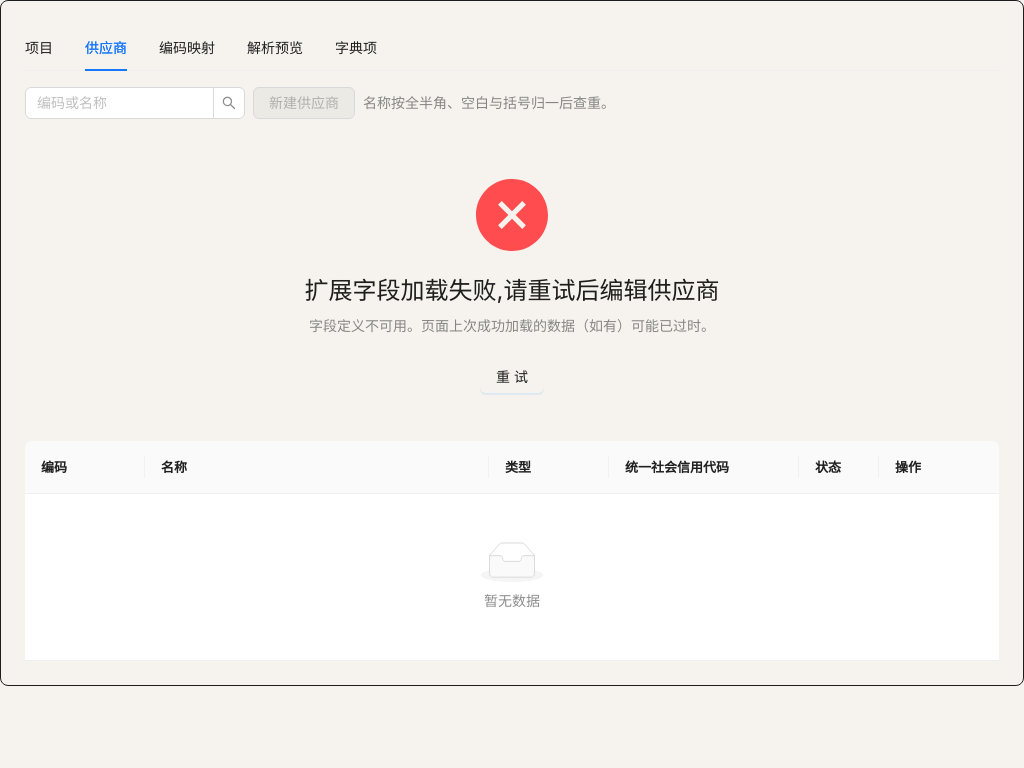
主数据扩展字段 AC-F07/F23 › 字段定义失败可重试,成功后才允许新建 suppliers
Expected: the text "扩展字段加载失败,请重试后编辑供应商" is shown, [304,276,719,305]
Expected: the button "新建供应商" is disabled, [253,87,355,119]
Click the button "重 试" at (512, 377), box [480,361,544,393]
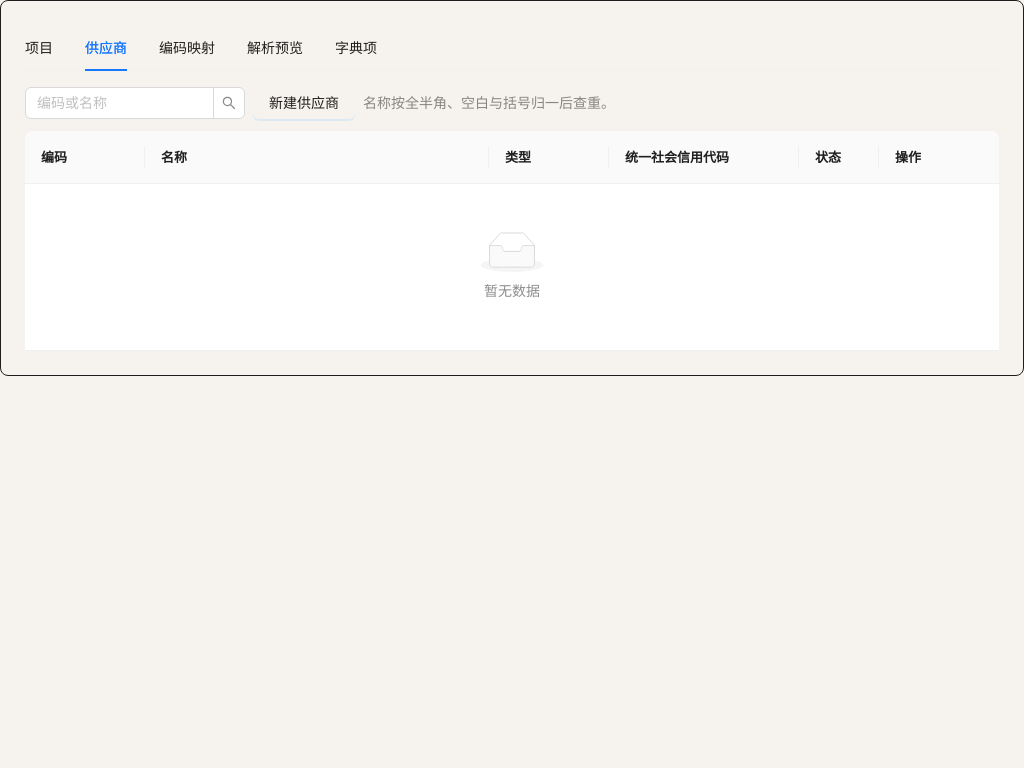
Expected: the button "新建供应商" is enabled, [253,87,355,119]
